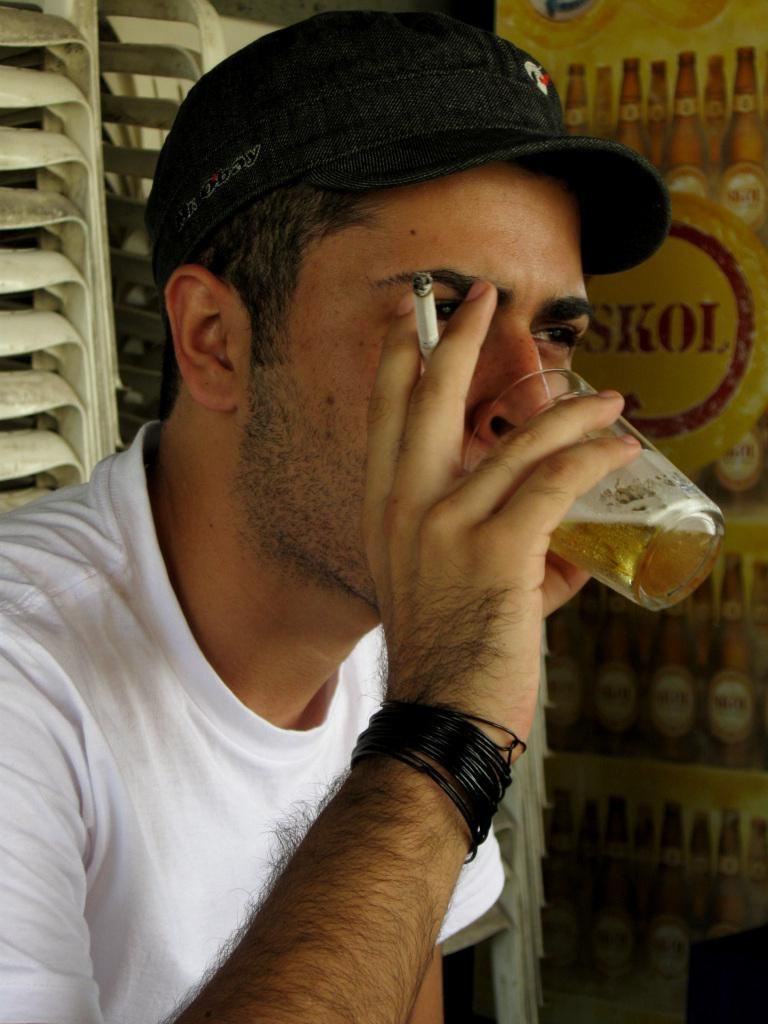Hat: (146, 8, 674, 294)
